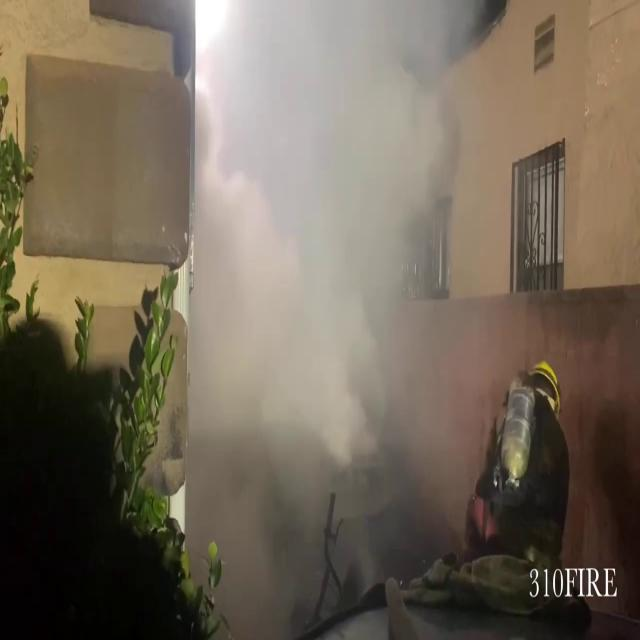Smoke: (191, 1, 507, 580)
